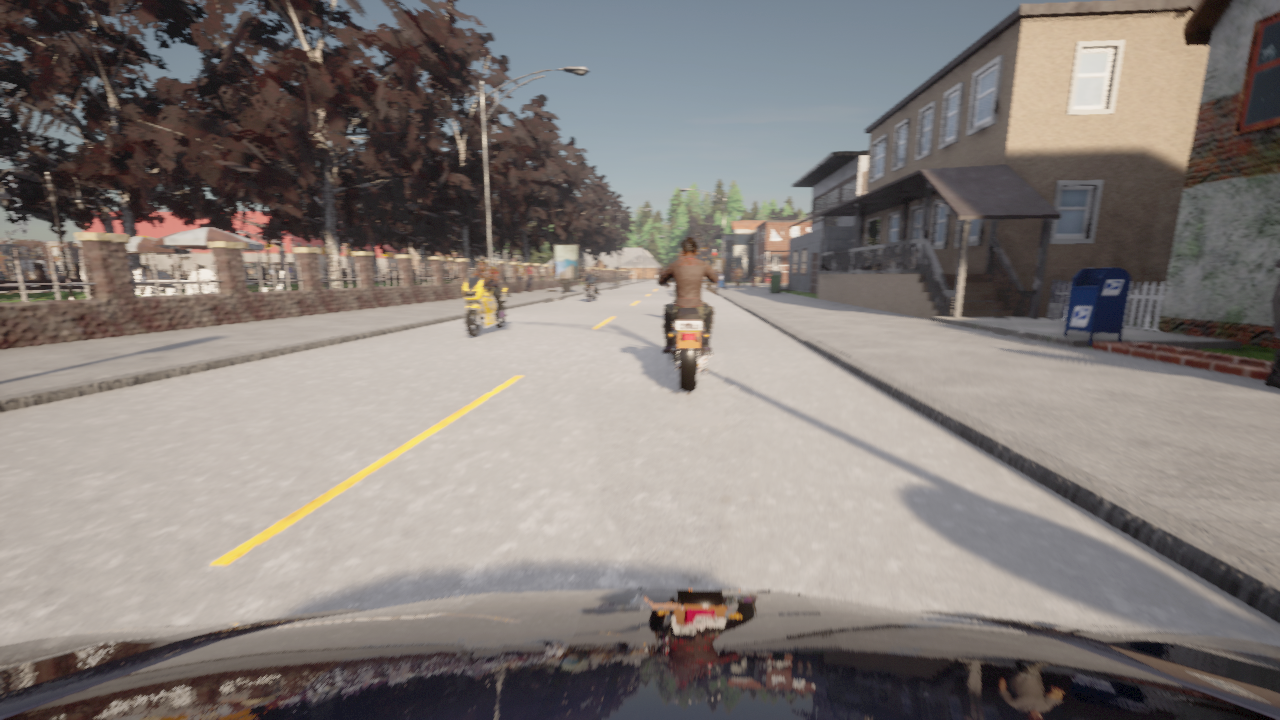cyclist: (0, 588, 1279, 719), (659, 269, 719, 391), (451, 276, 512, 337), (580, 274, 599, 302)
pedestrian: (1264, 257, 1279, 389), (526, 262, 533, 292), (754, 265, 761, 289), (736, 265, 743, 288)
